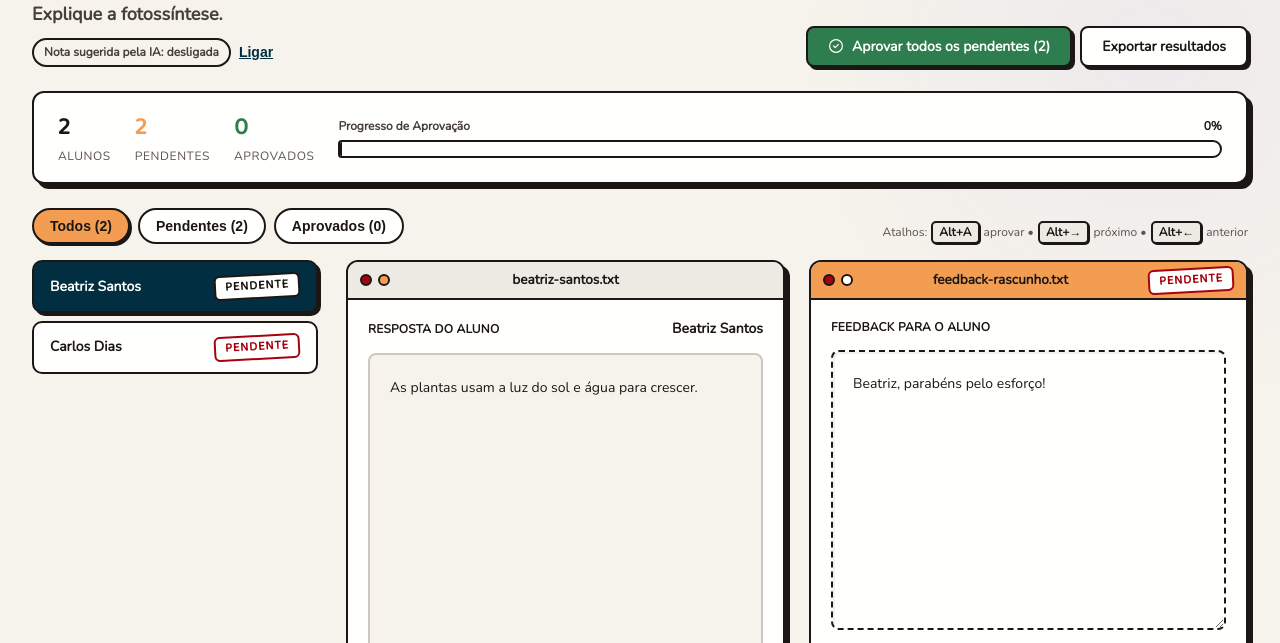
ReviewDashboard — Recursos da Fase 6D › alerta antes de descartar edição não salva ao trocar de aluno
The width and height of the screenshot is (1280, 643).
Check: the 1st text "Beatriz Santos" is shown, box [50, 276, 141, 298]
Check: the text "Carlos Dias" is shown, box [50, 336, 122, 359]
// Edita o texto do feedback de Beatriz
Type " Nota adicional do professor." into the text box named "Texto do feedback" at (1028, 490), box [831, 350, 1226, 630]
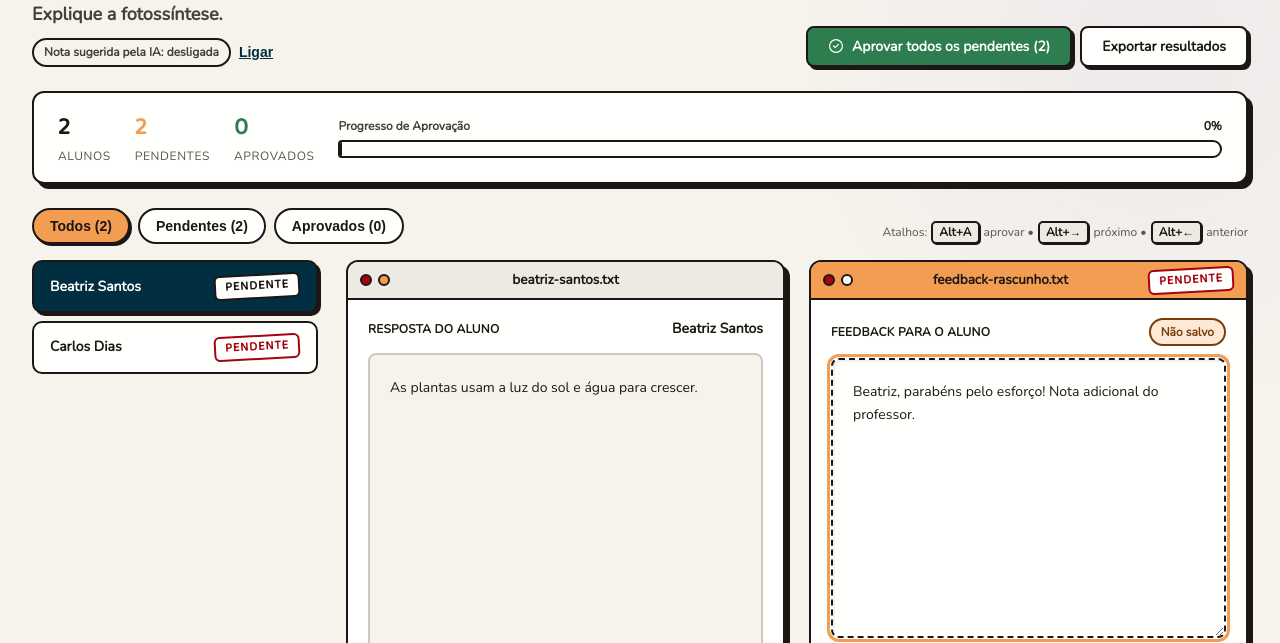
Click the button "Carlos Dias Pendente" at (86, 347), box [32, 321, 318, 374]
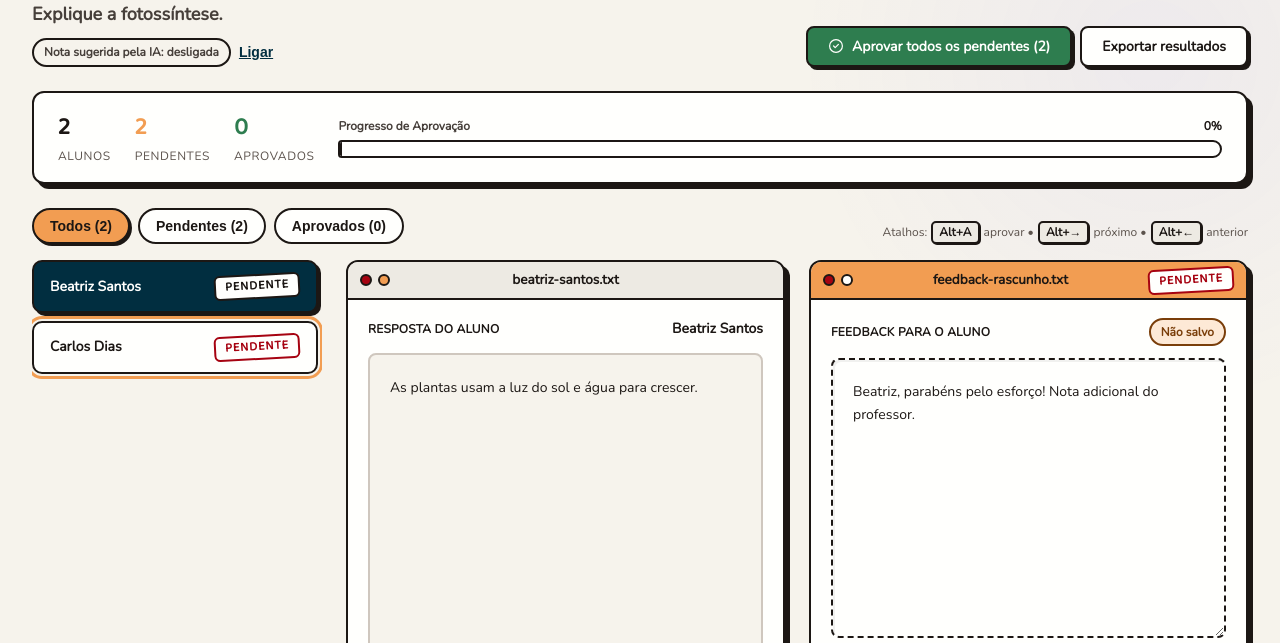
Click the button "Carlos Dias Pendente" at (86, 347), box [32, 321, 318, 374]
(page scrolled)
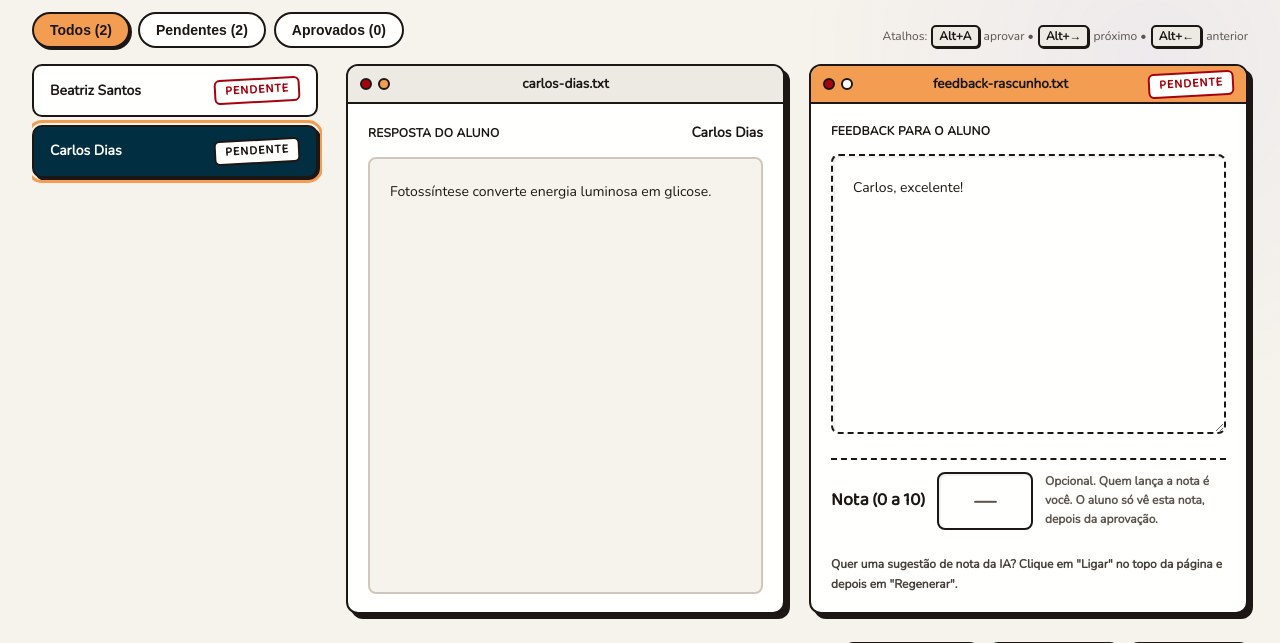
Check: the text "Fotossíntese converte energia luminosa em glicose." is shown, box [368, 157, 763, 594]
